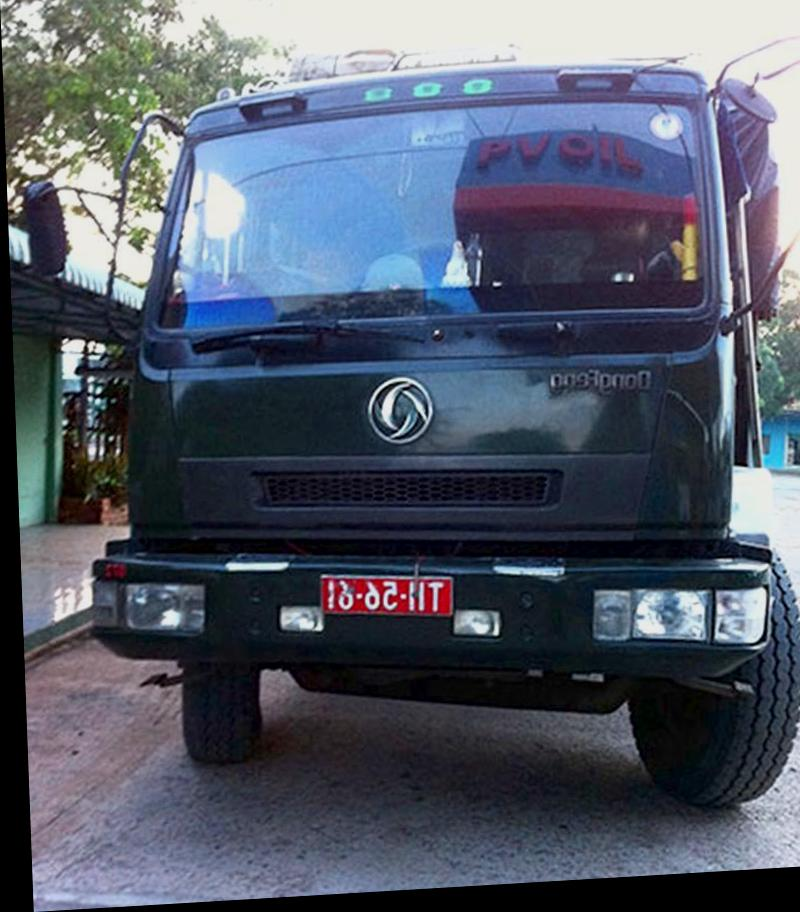License_Plate: (314, 567, 457, 621)
